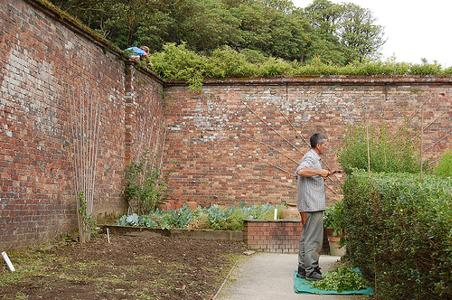person: (295, 132, 341, 283)
